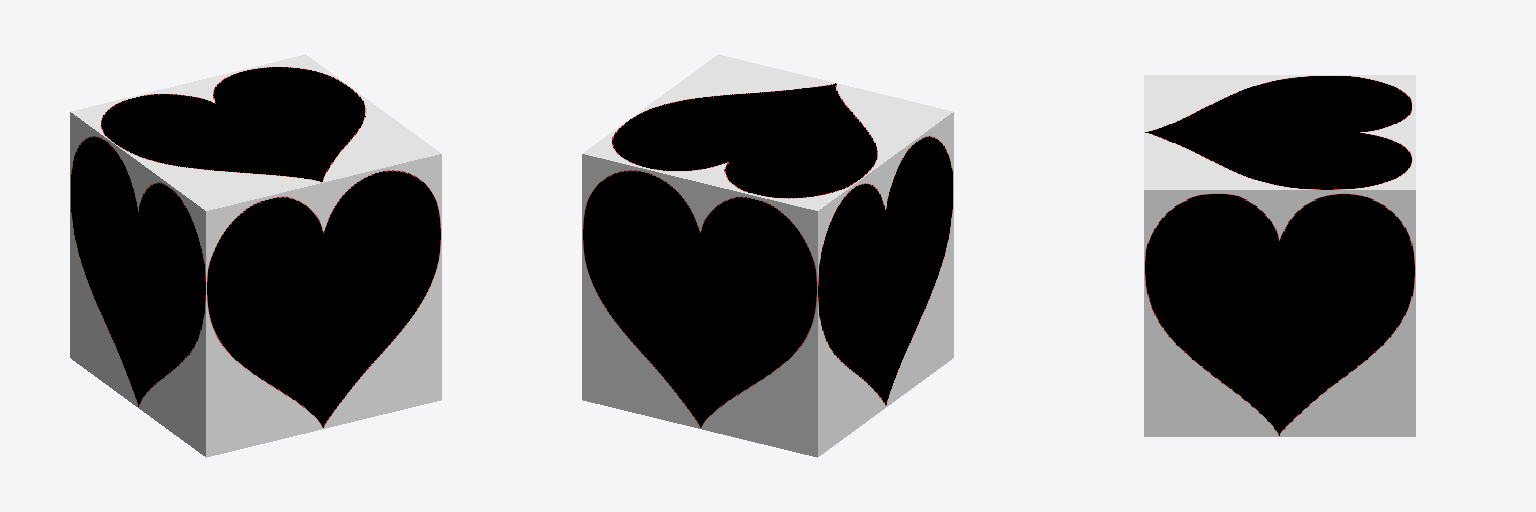
The picture shows the model from 3 angles: view 1: azimuth 30°, elevation 25°; view 2: azimuth 150°, elevation 25°; view 3: azimuth 270°, elevation 25°; orthographic projection.
Visible parts, largest first — view 1: pCube1; view 2: pCube1; view 3: pCube1.
Boxes of the visible parts, x1,y1,x2,y2 form: pCube1: [70, 54, 441, 457]; pCube1: [582, 54, 953, 457]; pCube1: [1144, 75, 1415, 436].
Bounding box in the file's own units: 2 × 2 × 2.
Materials: 1 (1 with a texture image).